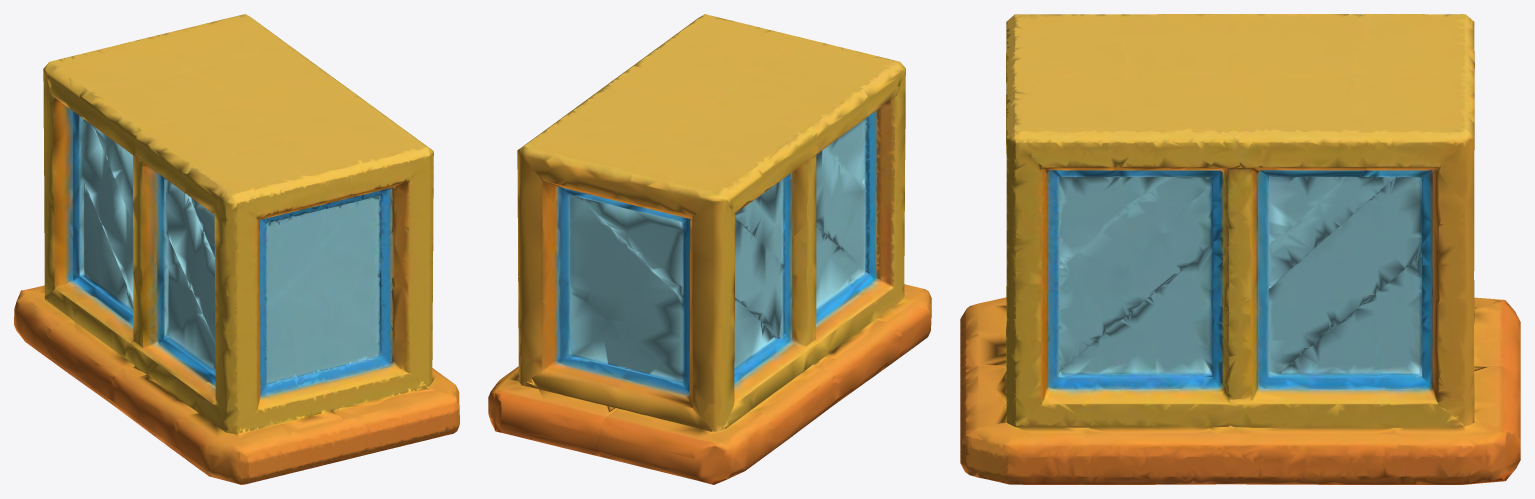
The model's file is bg_window.glb.
3 views of the same model, side by side, from view 1: azimuth 30°, elevation 25°; view 2: azimuth 150°, elevation 25°; view 3: azimuth 270°, elevation 25° (orthographic). The views are drawn at different scales.
Parts seen in each view (by area): view 1: tripo_node_df83b54b-cab7-4b6e-87e8-52a463142f46; view 2: tripo_node_df83b54b-cab7-4b6e-87e8-52a463142f46; view 3: tripo_node_df83b54b-cab7-4b6e-87e8-52a463142f46.
Part boxes in pixels (x1=…): tripo_node_df83b54b-cab7-4b6e-87e8-52a463142f46: x1=14, y1=14, x2=459, y2=484; tripo_node_df83b54b-cab7-4b6e-87e8-52a463142f46: x1=488, y1=14, x2=931, y2=484; tripo_node_df83b54b-cab7-4b6e-87e8-52a463142f46: x1=960, y1=14, x2=1520, y2=484.
Bounding box in the file's own units: 0.6437 × 0.674 × 1.
1 material, 1 textured.
